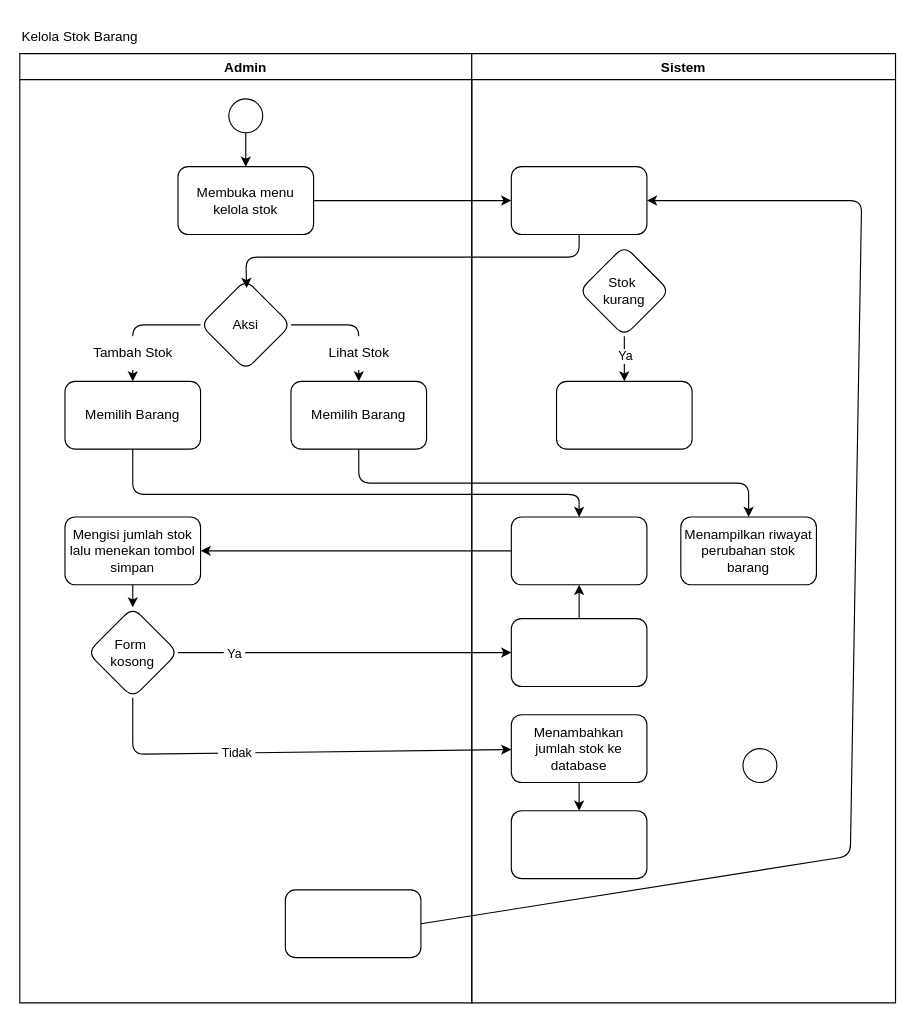
This 915x1023 diagram has some shape labels left out. The centre of each missing label's shape, as x and y in pixels:
Menampilkan daftar (stok) barang: point (578, 200)
Menampilkan form isian stok: point (578, 550)
Menampilkan notifikasi "Stok barang hampir habis": point (623, 414)
Menampilkan pesan "Form tidak boleh kosong": point (578, 652)
Menampilkan pesan "Stok barang berhasil diperbarui": point (578, 844)
Menutup halaman riwayat: point (352, 923)
